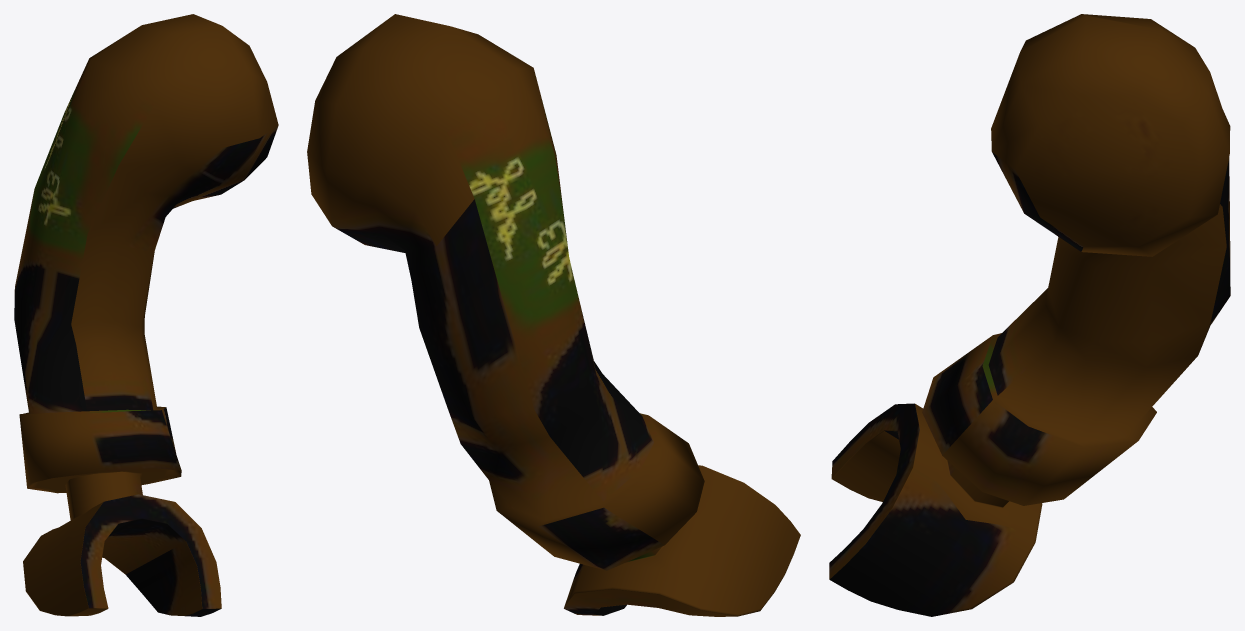
Rendered from elfo_brazo_derecho.mtl.obj.
3 views of the same model, side by side, from view 1: azimuth 30°, elevation 25°; view 2: azimuth 150°, elevation 25°; view 3: azimuth 270°, elevation 25° (orthographic). The views are drawn at different scales.
Parts seen in each view (by area): view 1: Mesh_Default.002_Mesh_Default.004; view 2: Mesh_Default.002_Mesh_Default.004; view 3: Mesh_Default.002_Mesh_Default.004.
Part boxes in pixels (box(x1,y1,x2,y2)): Mesh_Default.002_Mesh_Default.004: box(14, 14, 278, 616); Mesh_Default.002_Mesh_Default.004: box(307, 14, 800, 616); Mesh_Default.002_Mesh_Default.004: box(829, 14, 1230, 616).
Size of the model in its own units: 1.1 by 2 by 1.14.
